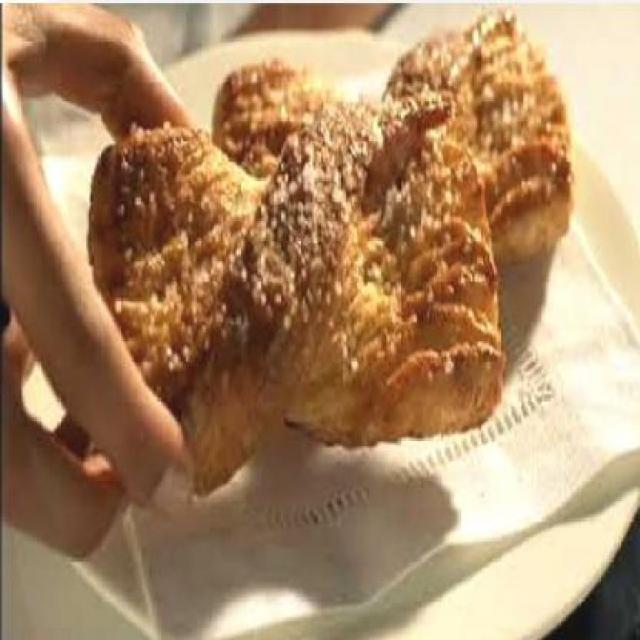Merendine packaged: (78, 96, 514, 501)
